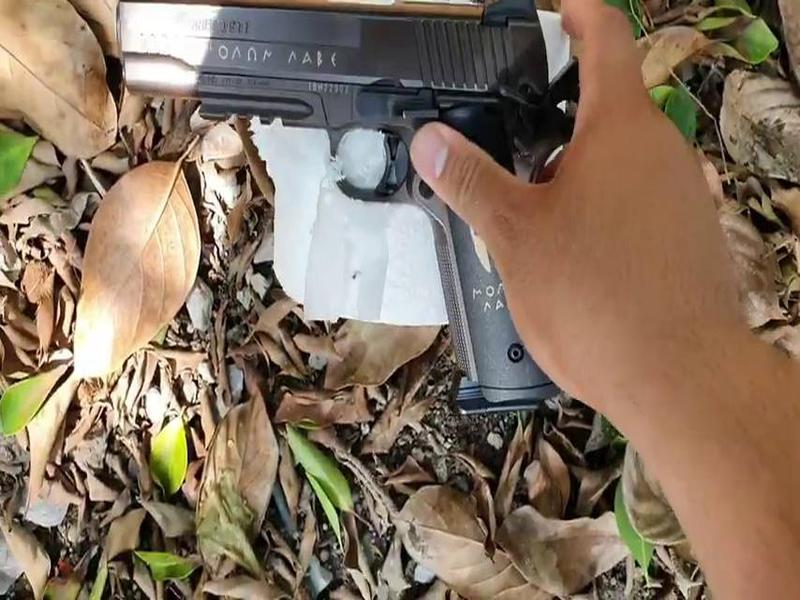Pistola: (106, 12, 571, 422)
